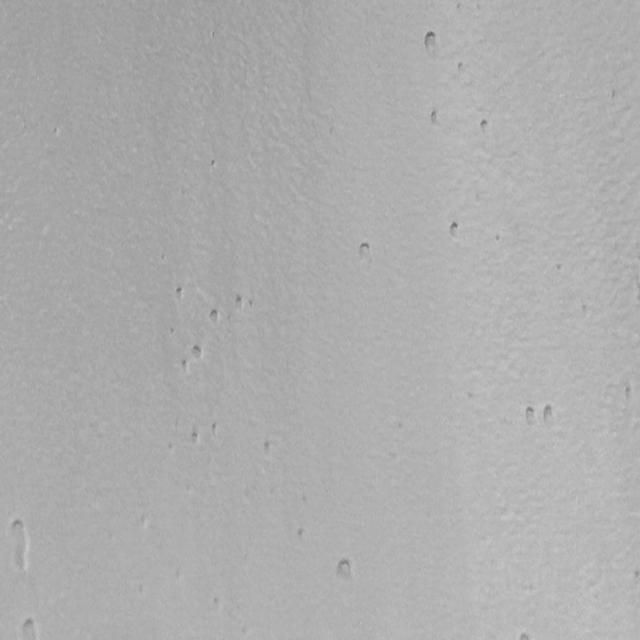pin holes: (4, 517, 33, 574), (335, 556, 360, 586), (16, 615, 40, 640), (420, 30, 440, 59), (540, 401, 560, 430), (357, 241, 378, 267), (446, 218, 466, 240), (259, 438, 278, 459), (293, 525, 310, 547), (428, 108, 446, 128), (208, 306, 225, 326), (477, 118, 494, 138), (190, 343, 207, 362), (622, 384, 636, 406), (189, 431, 204, 448), (233, 293, 247, 311), (212, 594, 225, 612), (517, 628, 536, 640), (180, 359, 193, 376), (526, 405, 536, 427), (209, 420, 221, 437), (174, 287, 186, 303), (209, 158, 222, 172), (454, 60, 467, 74), (582, 304, 592, 319), (555, 261, 566, 273), (495, 234, 502, 246)
